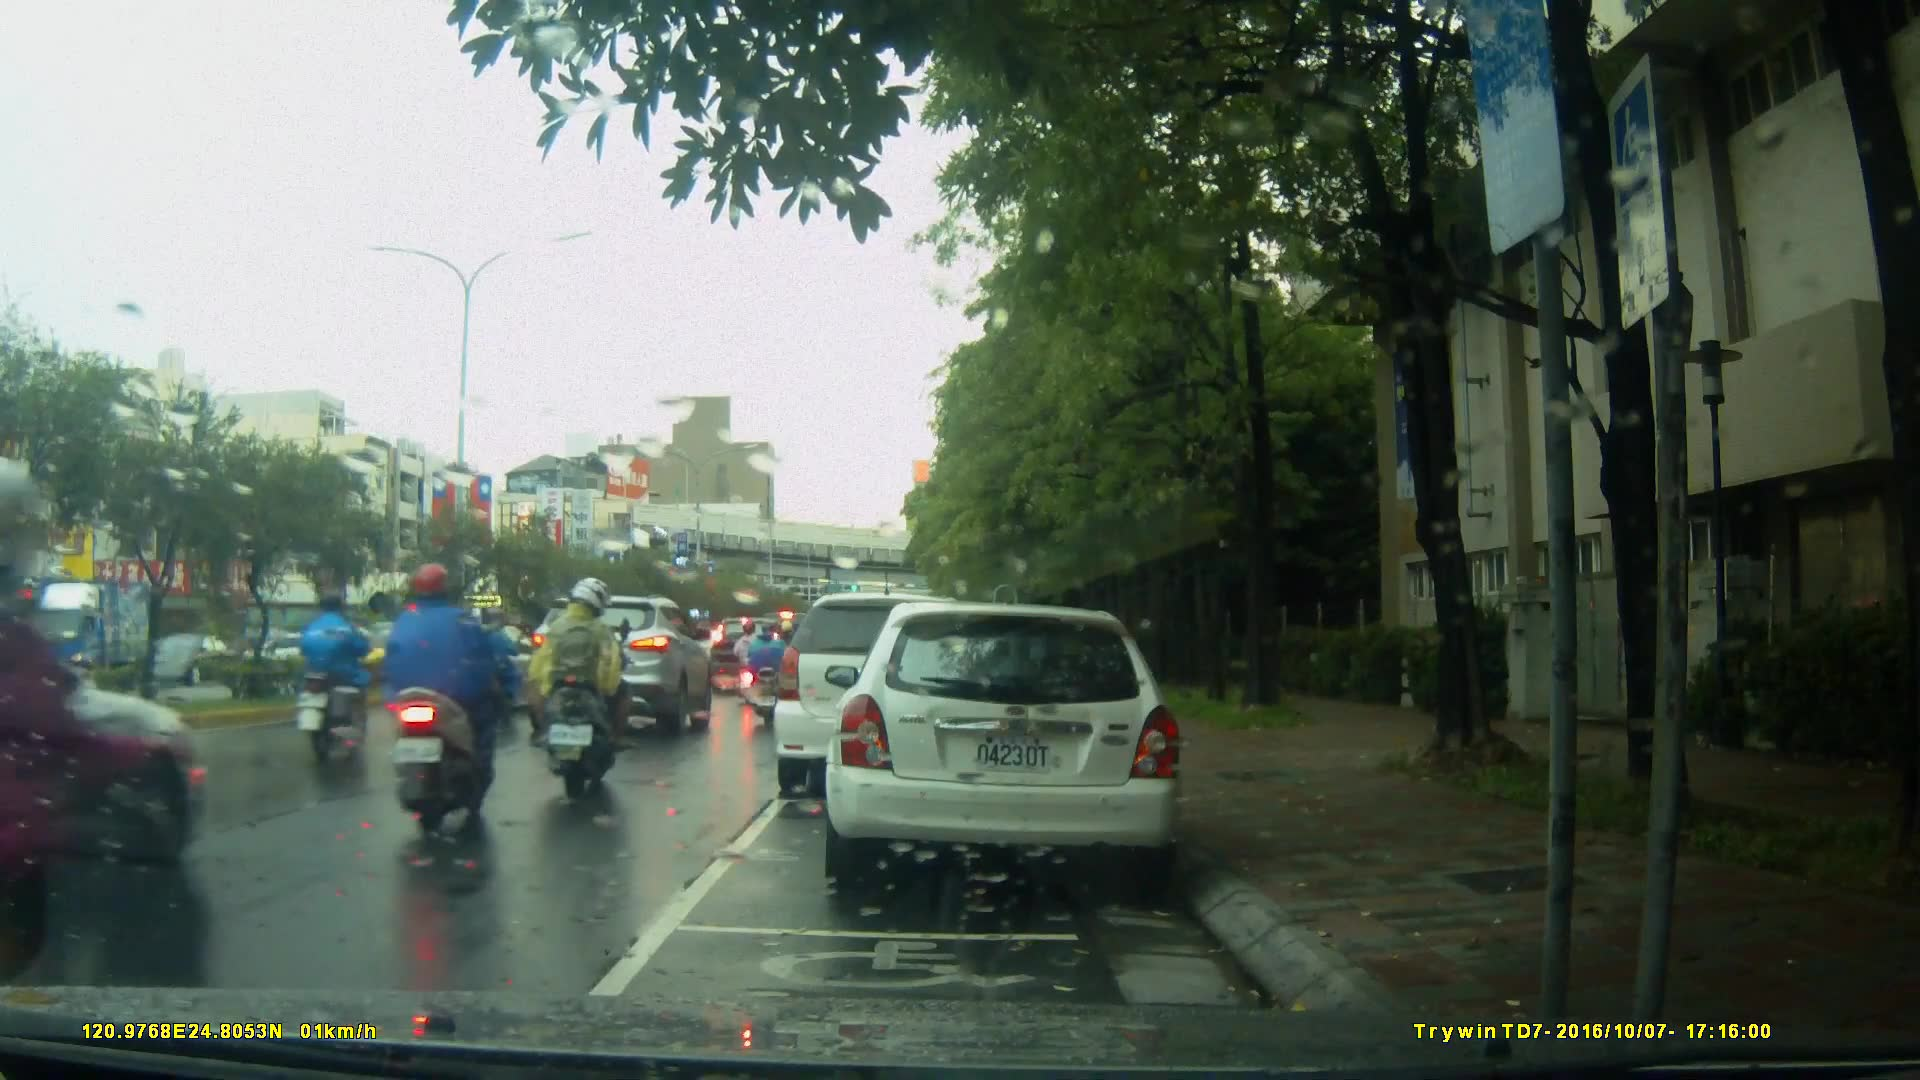rider: (382, 560, 503, 837), (528, 579, 631, 803), (291, 586, 374, 765), (455, 607, 536, 713), (743, 617, 794, 722), (735, 618, 772, 708)
vehicle: (822, 604, 1188, 883), (774, 595, 995, 802), (525, 595, 713, 742), (20, 576, 162, 697), (144, 630, 241, 686)
